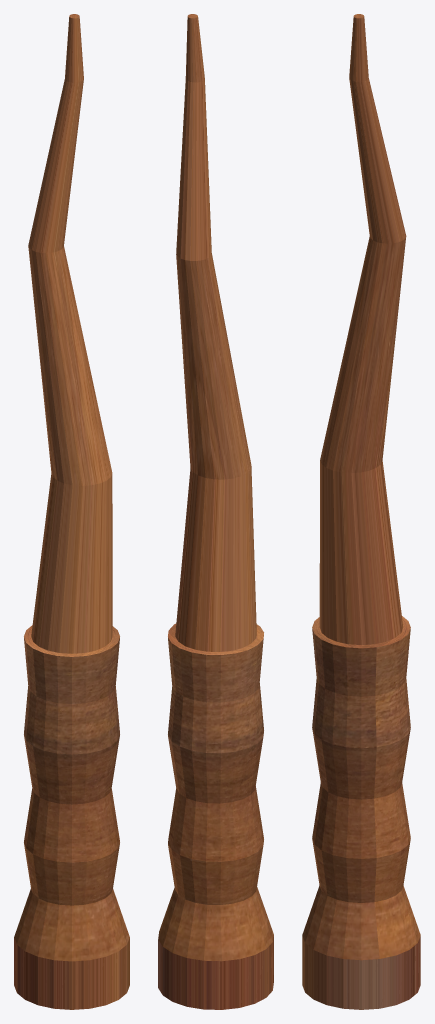
The model's file is wand.fbx.
The picture shows the model from 3 angles, left to right: view 1: azimuth 90°, elevation 25°; view 2: azimuth 150°, elevation 25°; view 3: azimuth 270°, elevation 25°; orthographic projection. The views are drawn at different scales.
Parts seen in each view (by area): view 1: wand; view 2: wand; view 3: wand.
Boxes of the visible parts, x1=… form: wand: x1=14, y1=14, x2=129, y2=1009; wand: x1=158, y1=14, x2=273, y2=1009; wand: x1=302, y1=14, x2=420, y2=1009.
Size of the model in its own units: 1.56 by 14.21 by 1.56.
Materials: 2 (2 with a texture image).
